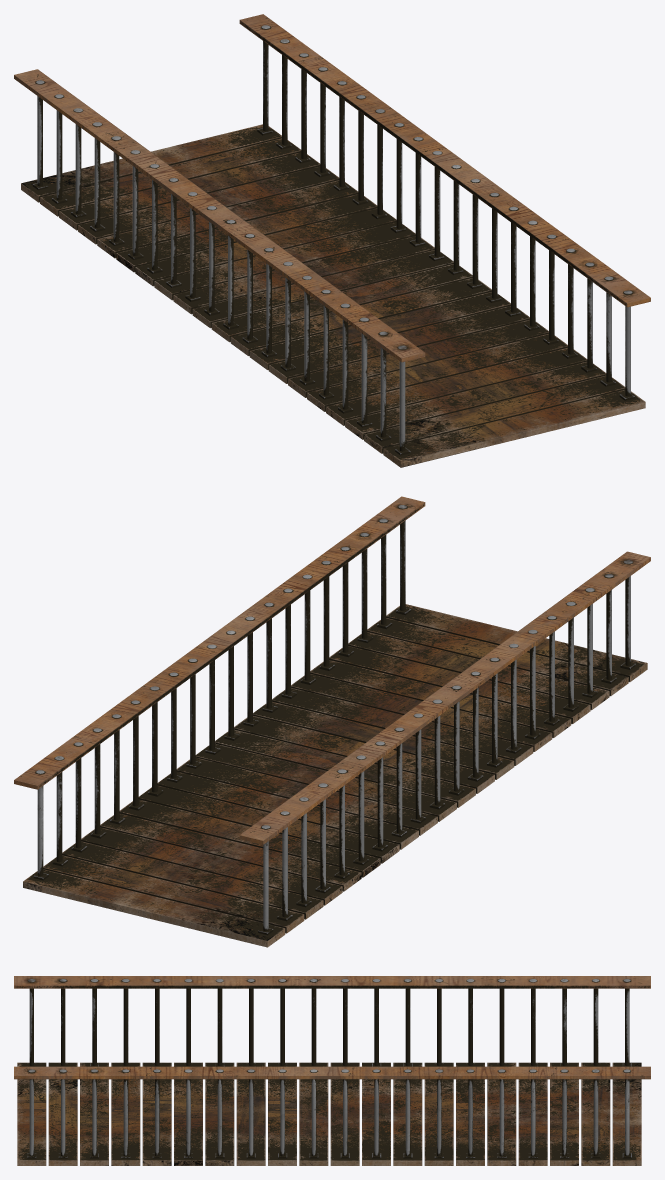
File: wood_bridge_wooden_path.glb
The picture shows the model from 3 angles, top to bottom: view 1: azimuth 30°, elevation 25°; view 2: azimuth 150°, elevation 25°; view 3: azimuth 270°, elevation 25°; orthographic projection. The views are drawn at different scales.
Visible parts, largest first — view 1: Object_2; view 2: Object_2; view 3: Object_2.
Part boxes in pixels (x1,y1,x2,y2): Object_2: [14, 14, 650, 467]; Object_2: [14, 496, 650, 947]; Object_2: [14, 976, 650, 1165].
Size of the model in its own units: 204 by 87.08 by 549.
Materials: 1 (1 with a texture image).
